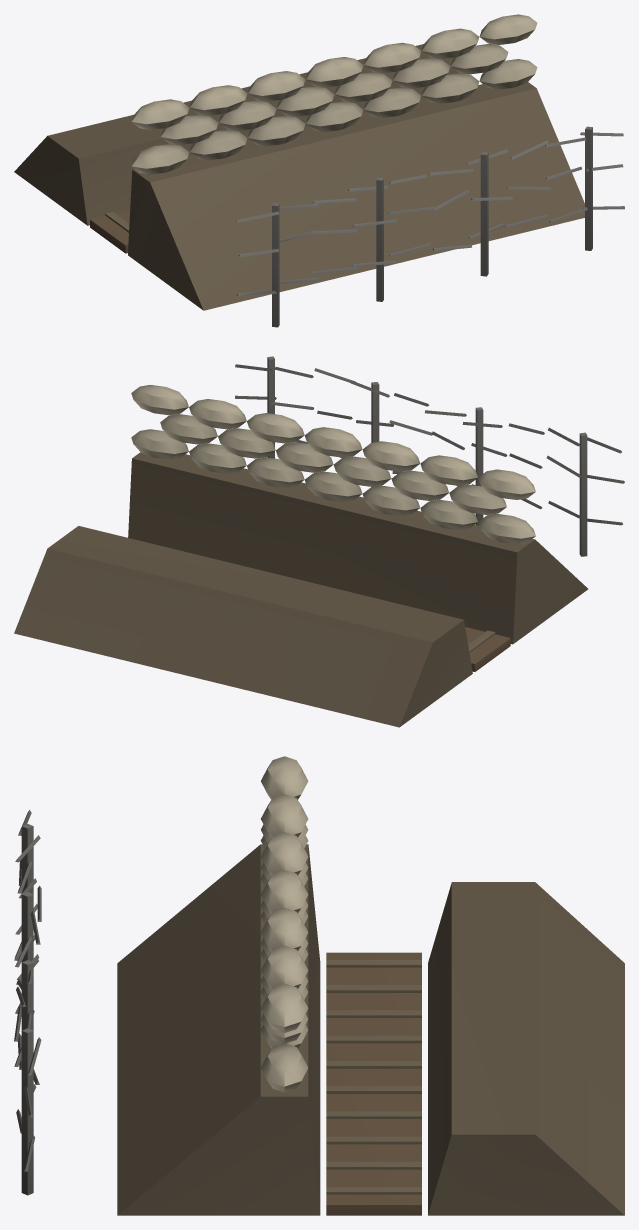
File: wall_modern.glb
3 views of the same model, one above another, from view 1: azimuth 30°, elevation 25°; view 2: azimuth 150°, elevation 25°; view 3: azimuth 270°, elevation 25° (orthographic). The views are drawn at different scales.
Parts seen in each view (by area): view 1: Body; view 2: Body; view 3: Body.
Part boxes in pixels (x1,y1,x2,y2): Body: (14, 14, 624, 327); Body: (14, 356, 624, 727); Body: (14, 756, 624, 1215).
Size of the model in its own units: 1.05 by 0.39 by 1.02.
